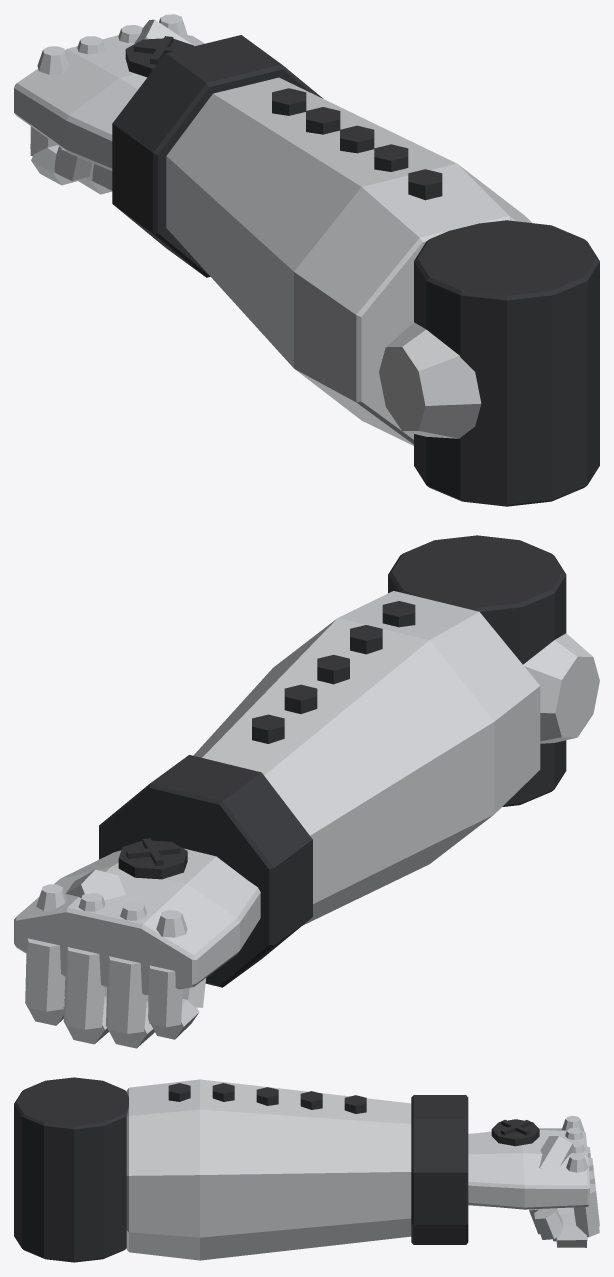
The model's file is personaggio_n1_pugno.glb.
3 views of the same model, one above another, from view 1: azimuth 30°, elevation 25°; view 2: azimuth 150°, elevation 25°; view 3: azimuth 270°, elevation 25° (orthographic). The views are drawn at different scales.
Visible parts, largest first — view 1: N1_Pugno; view 2: N1_Pugno; view 3: N1_Pugno.
Boxes of the visible parts, x1,y1,x2,y2 form: N1_Pugno: [14, 14, 599, 506]; N1_Pugno: [14, 535, 599, 1048]; N1_Pugno: [14, 1077, 599, 1262].
Bounding box in the file's own units: 0.1146 × 0.1153 × 0.3898.
1 material, 1 textured.
